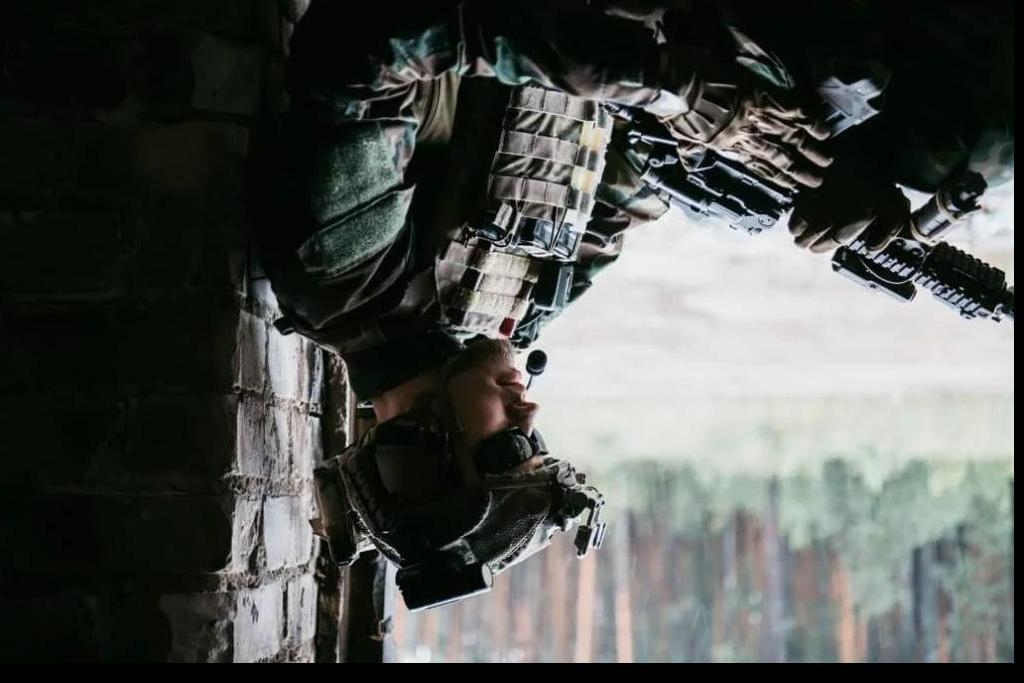larga: (623, 70, 1014, 327)
